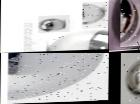ironball: (6, 53, 109, 103), (47, 28, 108, 51), (119, 0, 139, 48), (119, 56, 139, 103), (81, 1, 108, 29), (37, 15, 68, 32), (109, 49, 139, 53)
